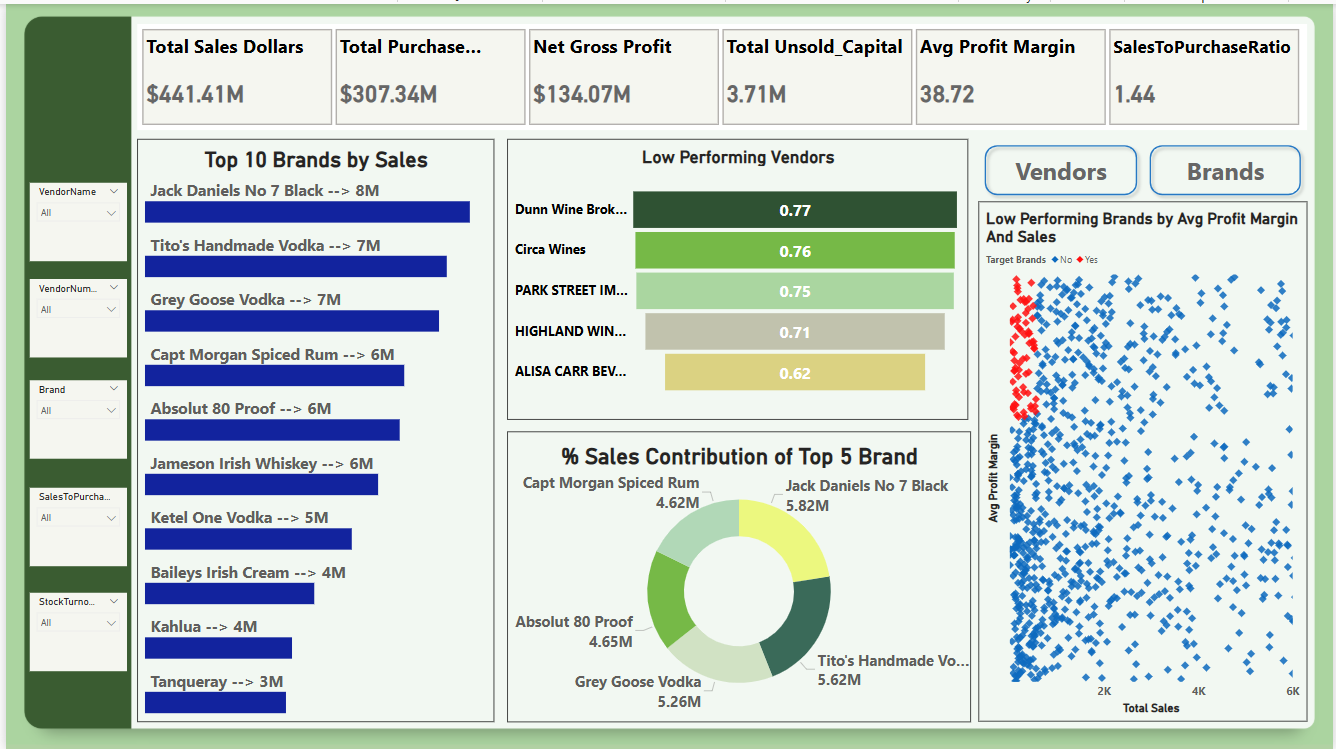

What the dashboard file says about the page in this screenshot:
{"tool":"powerbi","page":{"name":"Business Overview","canvas":[1920,1080],"ordinal":0},"visuals":[{"type":"cardVisual","fields":{"Data":["Sum(vendor_sales_summary.TotalSalesDollars)","Sum(vendor_sales_summary.TotalPurchaseDollars)","Sum(vendor_sales_summary.GrossProfit)","Sum(vendor_sales_summary.Unsold_Capital)","Avg(vendor_sales_summary.ProfitMargin)","Measure Table.SalesToPurchaseRatio"]},"box":[190,29,1693.8,153.8],"z":0},{"type":"funnel","title":"Low Performing Vendors","fields":{"Category":["Low turnover Vendors.VendorName"],"Y":["Sum(Low turnover Vendors.AvgStockTurnover)"]},"box":[725.7,196,667.4,406],"z":2000},{"type":"clusteredBarChart","title":"Top 10 Brands by Sales","fields":{"Y":["Measure Table.Dummy Series","Measure Table.Total Sales Vendor"],"Category":["vendor_sales_summary.Description"]},"box":[189.4,195.5,516.6,843.9],"z":4000},{"type":"shape","title":"Brand","box":[1646.8,195.4,237.1,90.5],"z":5000},{"type":"shape","title":"Vendor","box":[1407.9,195.4,238.9,90.5],"z":6000},{"type":"donutChart","title":"% Sales Contribution of Top 5 Brand","fields":{"Category":["vendor_sales_summary.Description"],"Y":["Measure Table.Pct Contribution of Each brand"]},"box":[725.7,618.4,671,421],"z":7000},{"type":"scatterChart","title":"Low Performing Brands by Avg Profit Margin And Sales","fields":{"Category":["BrandPerformance.Description"],"X":["Sum(BrandPerformance.TotalSales)"],"Y":["Avg(BrandPerformance.AvgProfitMargin)"],"Series":["BrandPerformance.Target Brands"]},"box":[1407.9,285.9,475.9,752.8],"z":8000},{"type":"slicer","fields":{"Values":["vendor_sales_summary.VendorName"]},"box":[34.7,258.2,140.7,113.7],"z":9000},{"type":"slicer","fields":{"Values":["vendor_sales_summary.VendorNumber"]},"box":[34.7,398.9,140.7,113.7],"z":10000},{"type":"slicer","fields":{"Values":["vendor_sales_summary.Description"]},"box":[34.7,545.3,140.7,113.7],"z":11000},{"type":"slicer","fields":{"Values":["vendor_sales_summary.SalesToPurchaseRatio"]},"box":[34.7,699.5,140.7,113.7],"z":12000},{"type":"slicer","fields":{"Values":["vendor_sales_summary.StockTurnover"]},"box":[34.7,851.7,140.7,113.7],"z":13000}]}

Visuals, with their boxes in screenshot pixels (x1, y1, x2, y2), scaled from the page's 1920x1080 canvas onto the 1336x749 screenshot:
cardVisual - Sum(vendor_sales_summary.TotalSalesDollars) x Sum(vendor_sales_summary.TotalPurchaseDollars): Rect(132, 20, 1311, 127)
"Low Performing Vendors" funnel: Rect(505, 136, 969, 417)
"Top 10 Brands by Sales" clusteredBarChart: Rect(132, 136, 491, 721)
"Brand" shape: Rect(1146, 136, 1311, 198)
"Vendor" shape: Rect(980, 136, 1146, 198)
"% Sales Contribution of Top 5 Brand" donutChart: Rect(505, 429, 972, 721)
"Low Performing Brands by Avg Profit Margin And Sales" scatterChart: Rect(980, 198, 1311, 720)
slicer - vendor_sales_summary.VendorName: Rect(24, 179, 122, 258)
slicer - vendor_sales_summary.VendorNumber: Rect(24, 277, 122, 355)
slicer - vendor_sales_summary.Description: Rect(24, 378, 122, 457)
slicer - vendor_sales_summary.SalesToPurchaseRatio: Rect(24, 485, 122, 564)
slicer - vendor_sales_summary.StockTurnover: Rect(24, 591, 122, 670)
